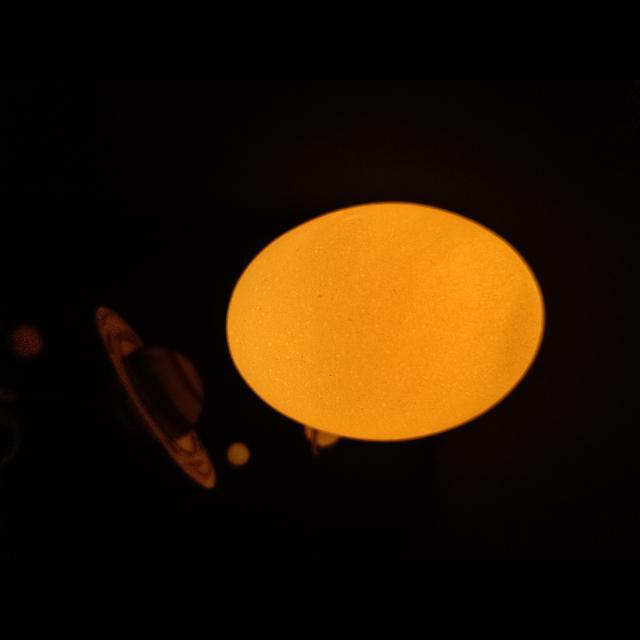AA - Premium: (226, 203, 544, 440)
